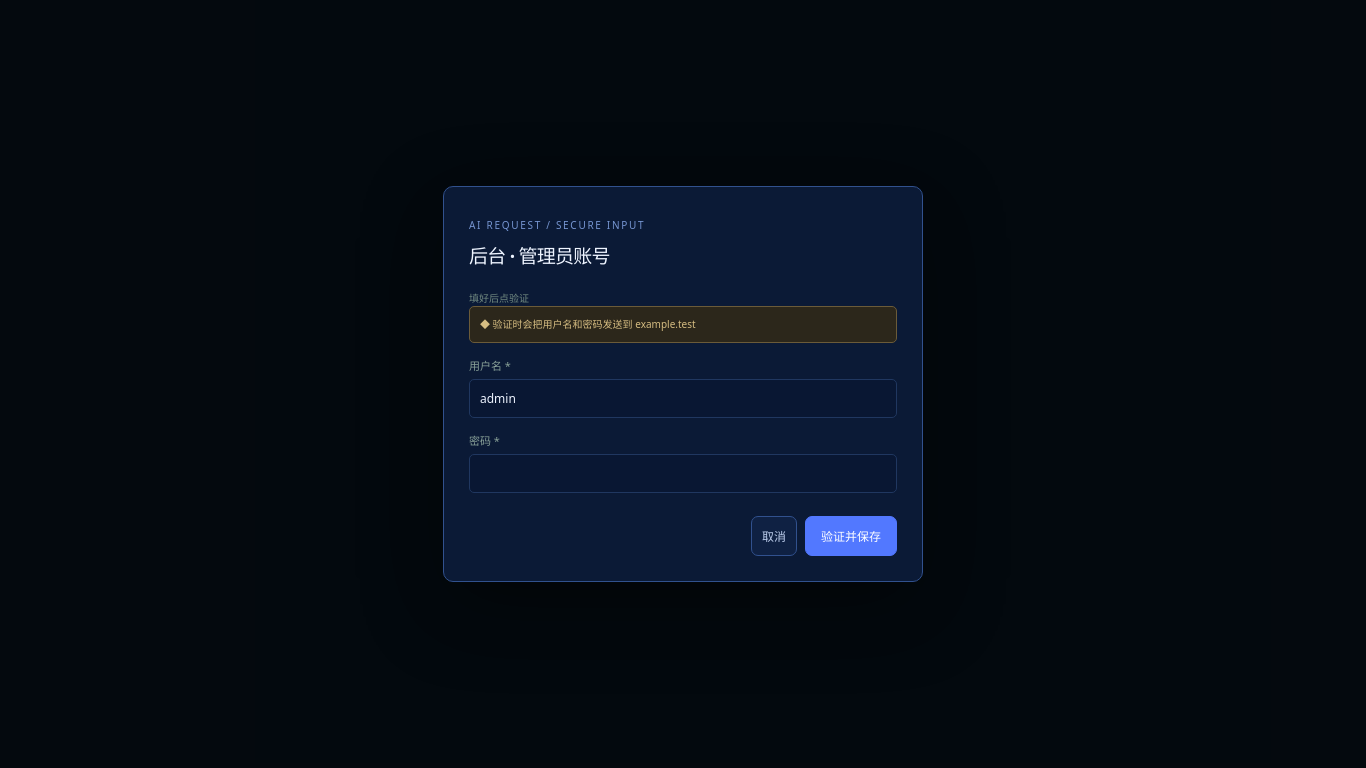
Test case: SecureInputModal › shows the reason on a failed verification and keeps what was typed
The image size is (1366, 768).
Type "fake-pass-1" into the password field labelled "密码". click: [683, 474]
box: top-left (469, 454), bottom-right (897, 493)
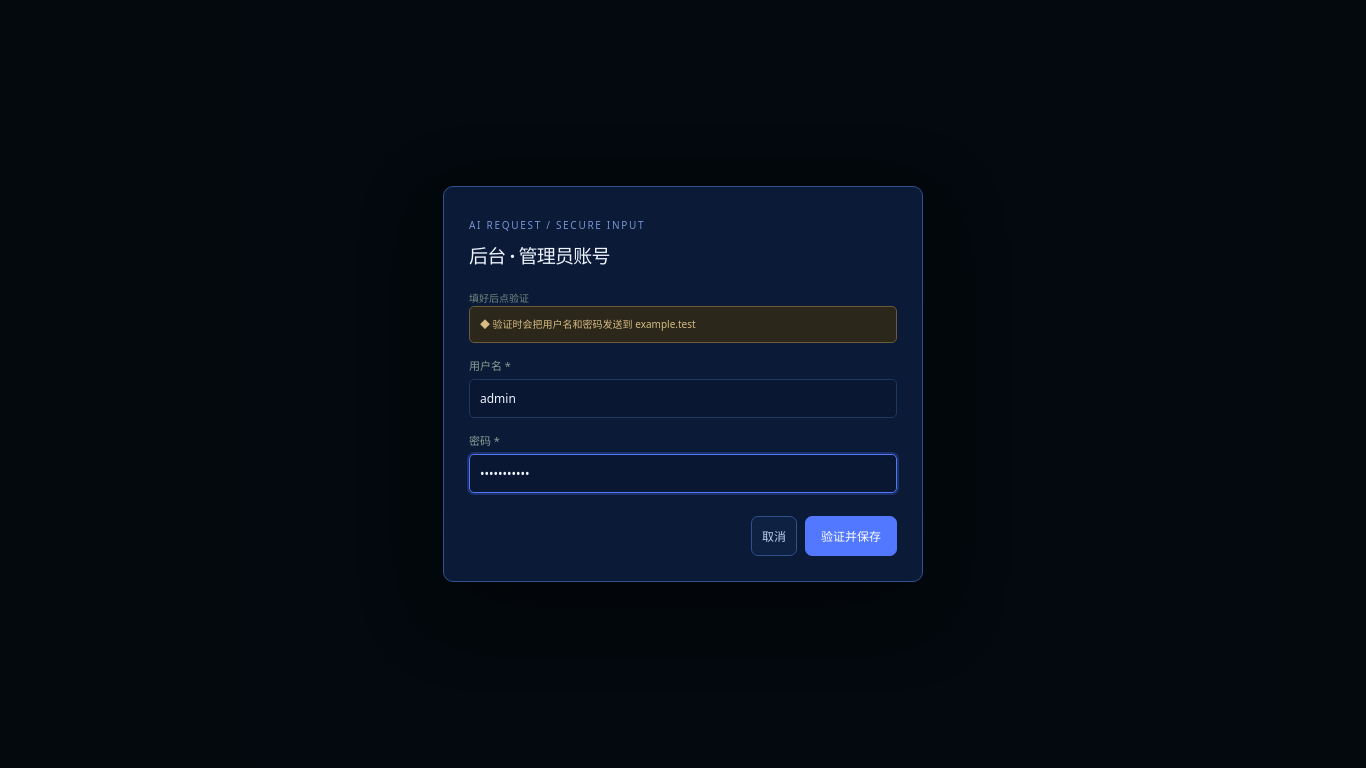
Click the button "验证并保存". click: [851, 536]
box: top-left (805, 516), bottom-right (897, 556)
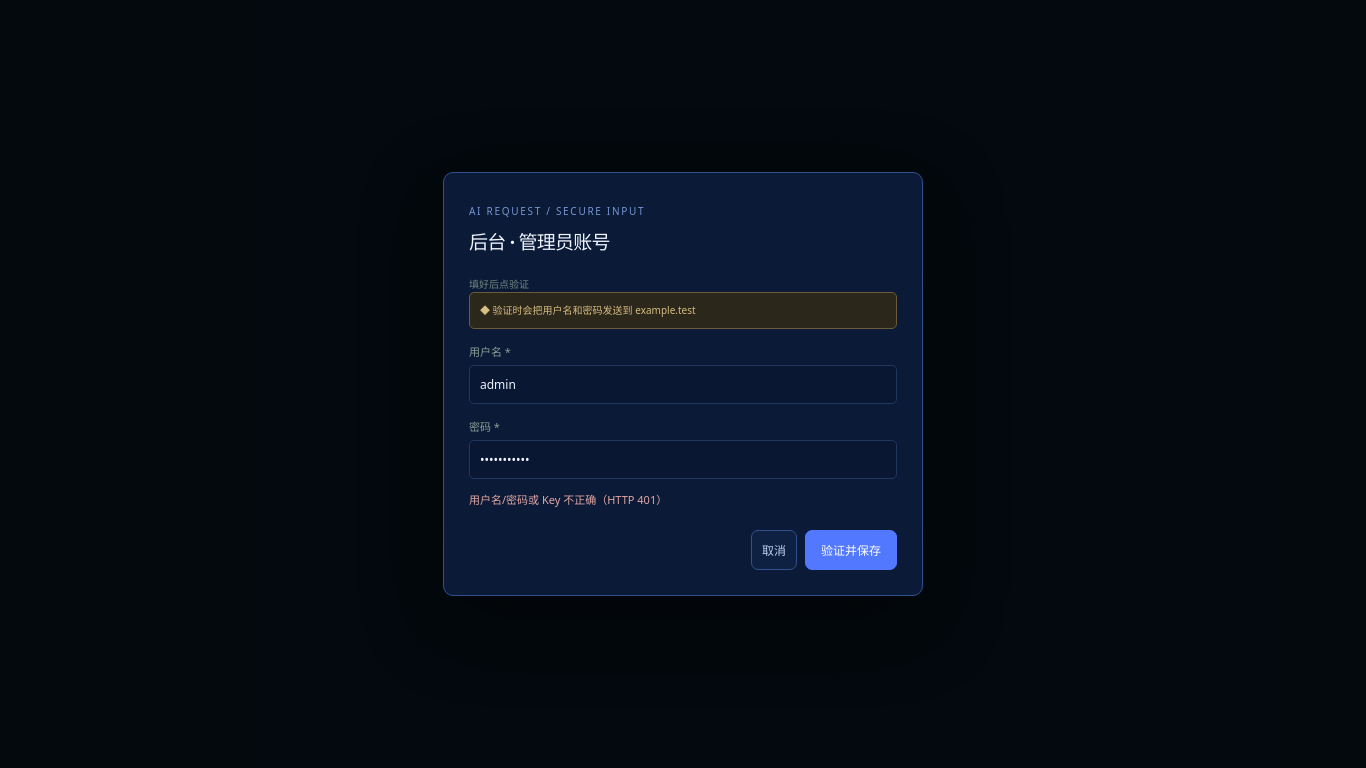
expect the field labelled "用户名" holds "admin": met, box top-left (469, 365), bottom-right (897, 404)
expect the message reads "用户名/密码或 Key 不正确（HTTP 401）": met, box top-left (469, 492), bottom-right (667, 507)
